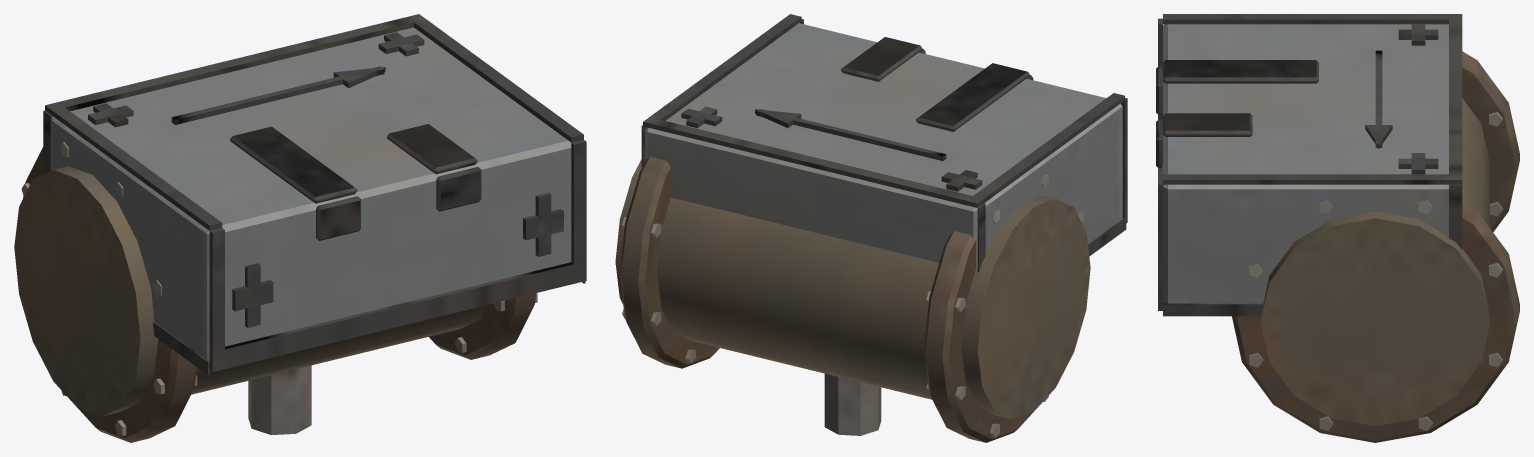
The model's file is overflow-valve-east.glb.
3 renders of one model, left to right at view 1: azimuth 30°, elevation 25°; view 2: azimuth 150°, elevation 25°; view 3: azimuth 270°, elevation 25°, orthographic. The views are drawn at different scales.
Visible parts, largest first — view 1: body; view 2: body; view 3: body.
Part boxes in pixels (<box>): body: <box>14,14,586,442</box>; body: <box>615,14,1127,442</box>; body: <box>1156,14,1519,442</box>.
Bounding box in the file's own units: 1 × 0.776 × 0.856.
1 material, 1 textured.
